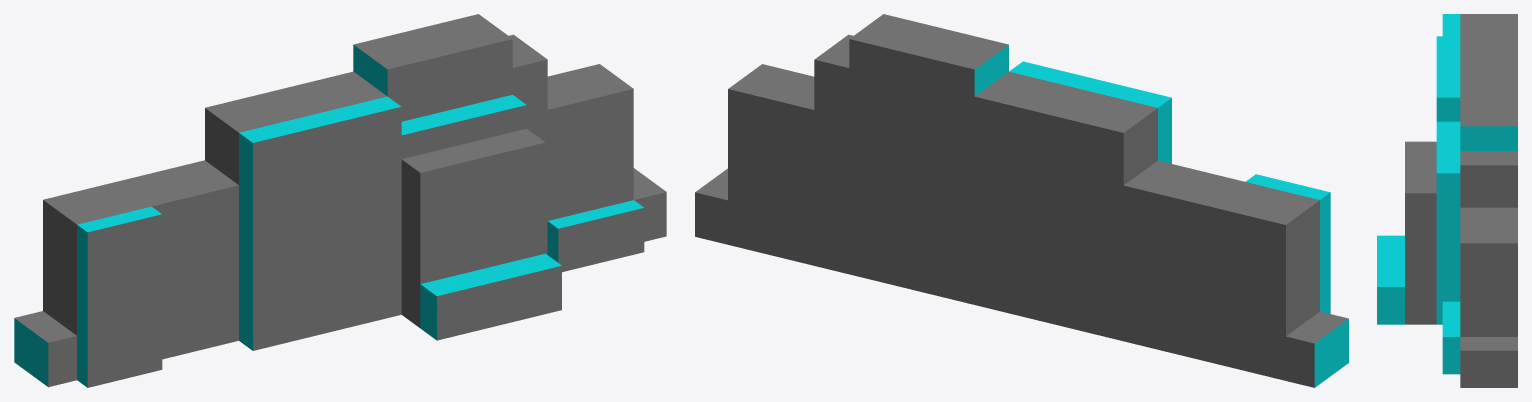
File: Gray Wall.fbx
The picture shows the model from 3 angles, left to right: view 1: azimuth 30°, elevation 25°; view 2: azimuth 150°, elevation 25°; view 3: azimuth 270°, elevation 25°; orthographic projection. The views are drawn at different scales.
Parts seen in each view (by area): view 1: Prop_Wall; view 2: Prop_Wall; view 3: Prop_Wall.
Part boxes in pixels (bbox=[...]): Prop_Wall: bbox=[14, 14, 666, 387]; Prop_Wall: bbox=[695, 14, 1348, 387]; Prop_Wall: bbox=[1377, 14, 1517, 387].
Size of the model in its own units: 8.19 by 2.98 by 1.92.
